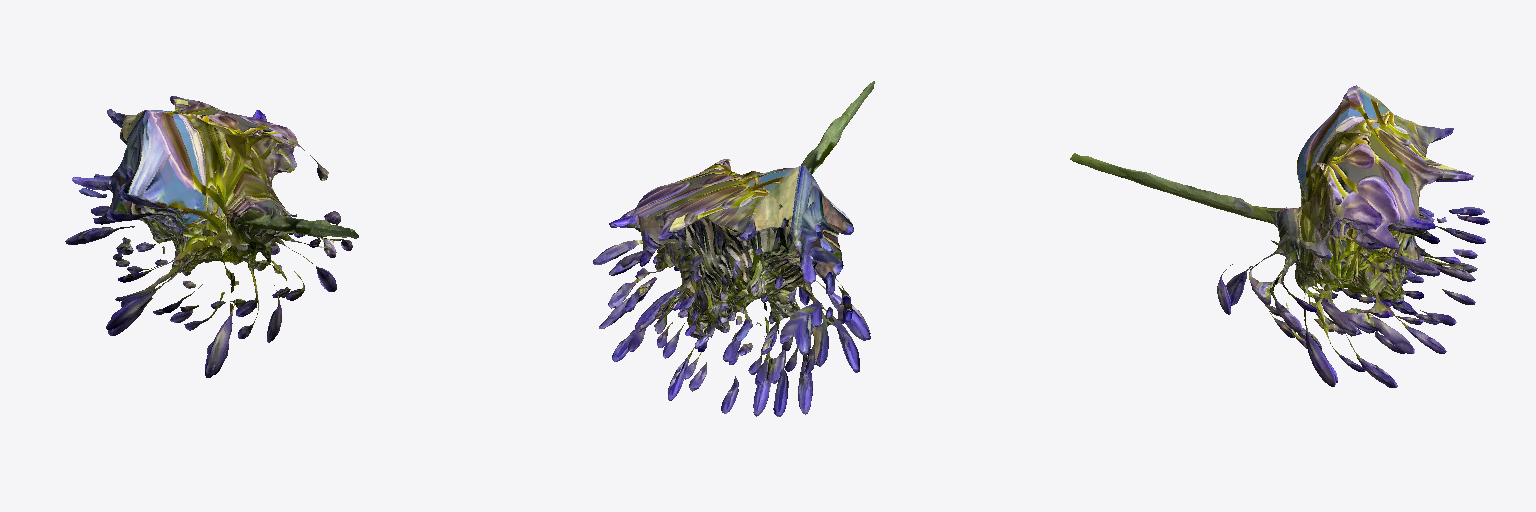
3 views of the same model, side by side, from view 1: azimuth 30°, elevation 25°; view 2: azimuth 150°, elevation 25°; view 3: azimuth 270°, elevation 25° (orthographic).
Visible parts, largest first — view 1: Mesh_0; view 2: Mesh_0; view 3: Mesh_0.
Part boxes in pixels (x1,y1,x2,y2): Mesh_0: (65, 96, 358, 377); Mesh_0: (593, 81, 874, 416); Mesh_0: (1070, 85, 1489, 387).
Bounding box in the file's own units: 0.139 × 0.1493 × 0.2095.
1 materials, 1 textured.